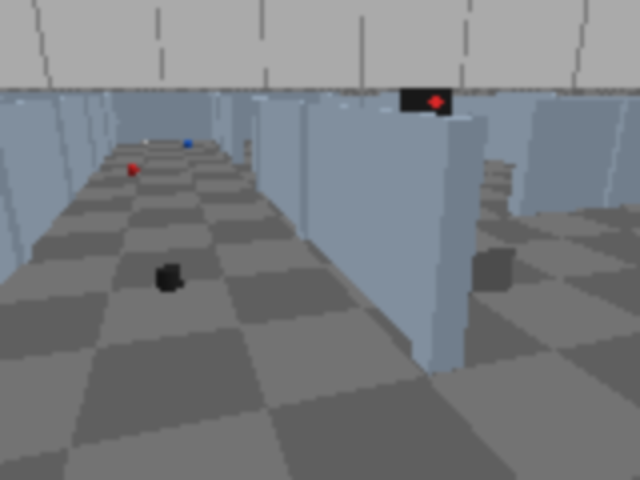puck: (156, 265, 182, 290)
